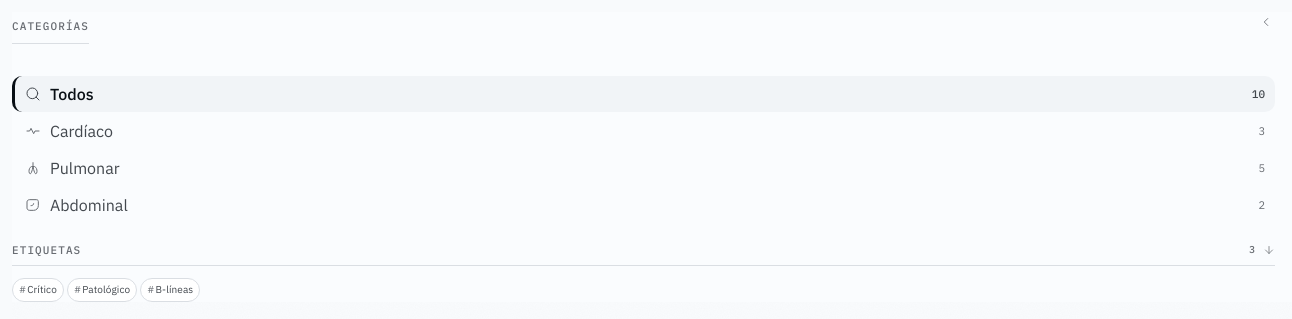
Scenario: Sidebar › collapses the tag cloud when the section header is clicked
The image size is (1292, 319).
Expected: the button "Crítico" is shown, 12,278 -> 64,302
What coordinates should you click on to do the following:
click the button "Etiquetas 3"
I would click on:
 (47, 250)
Its box is 12,242 -> 1275,266.
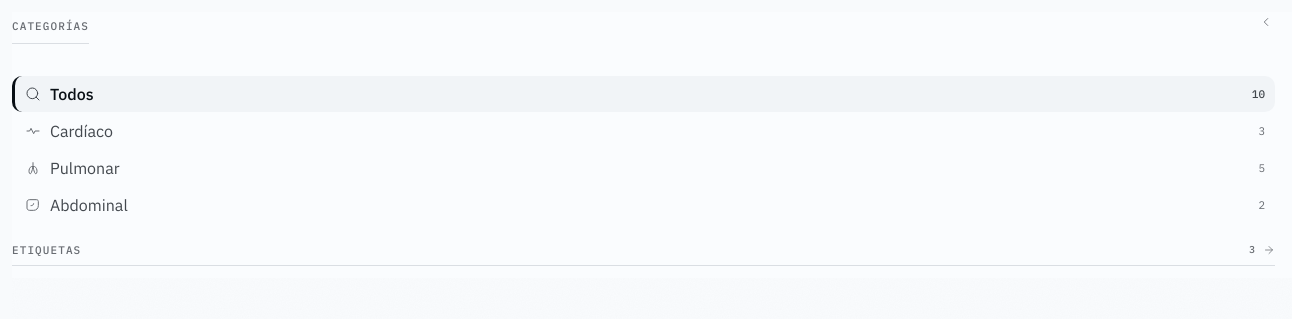
Result: the button "Crítico" is gone
